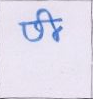i_matra: (40, 8, 61, 40)
